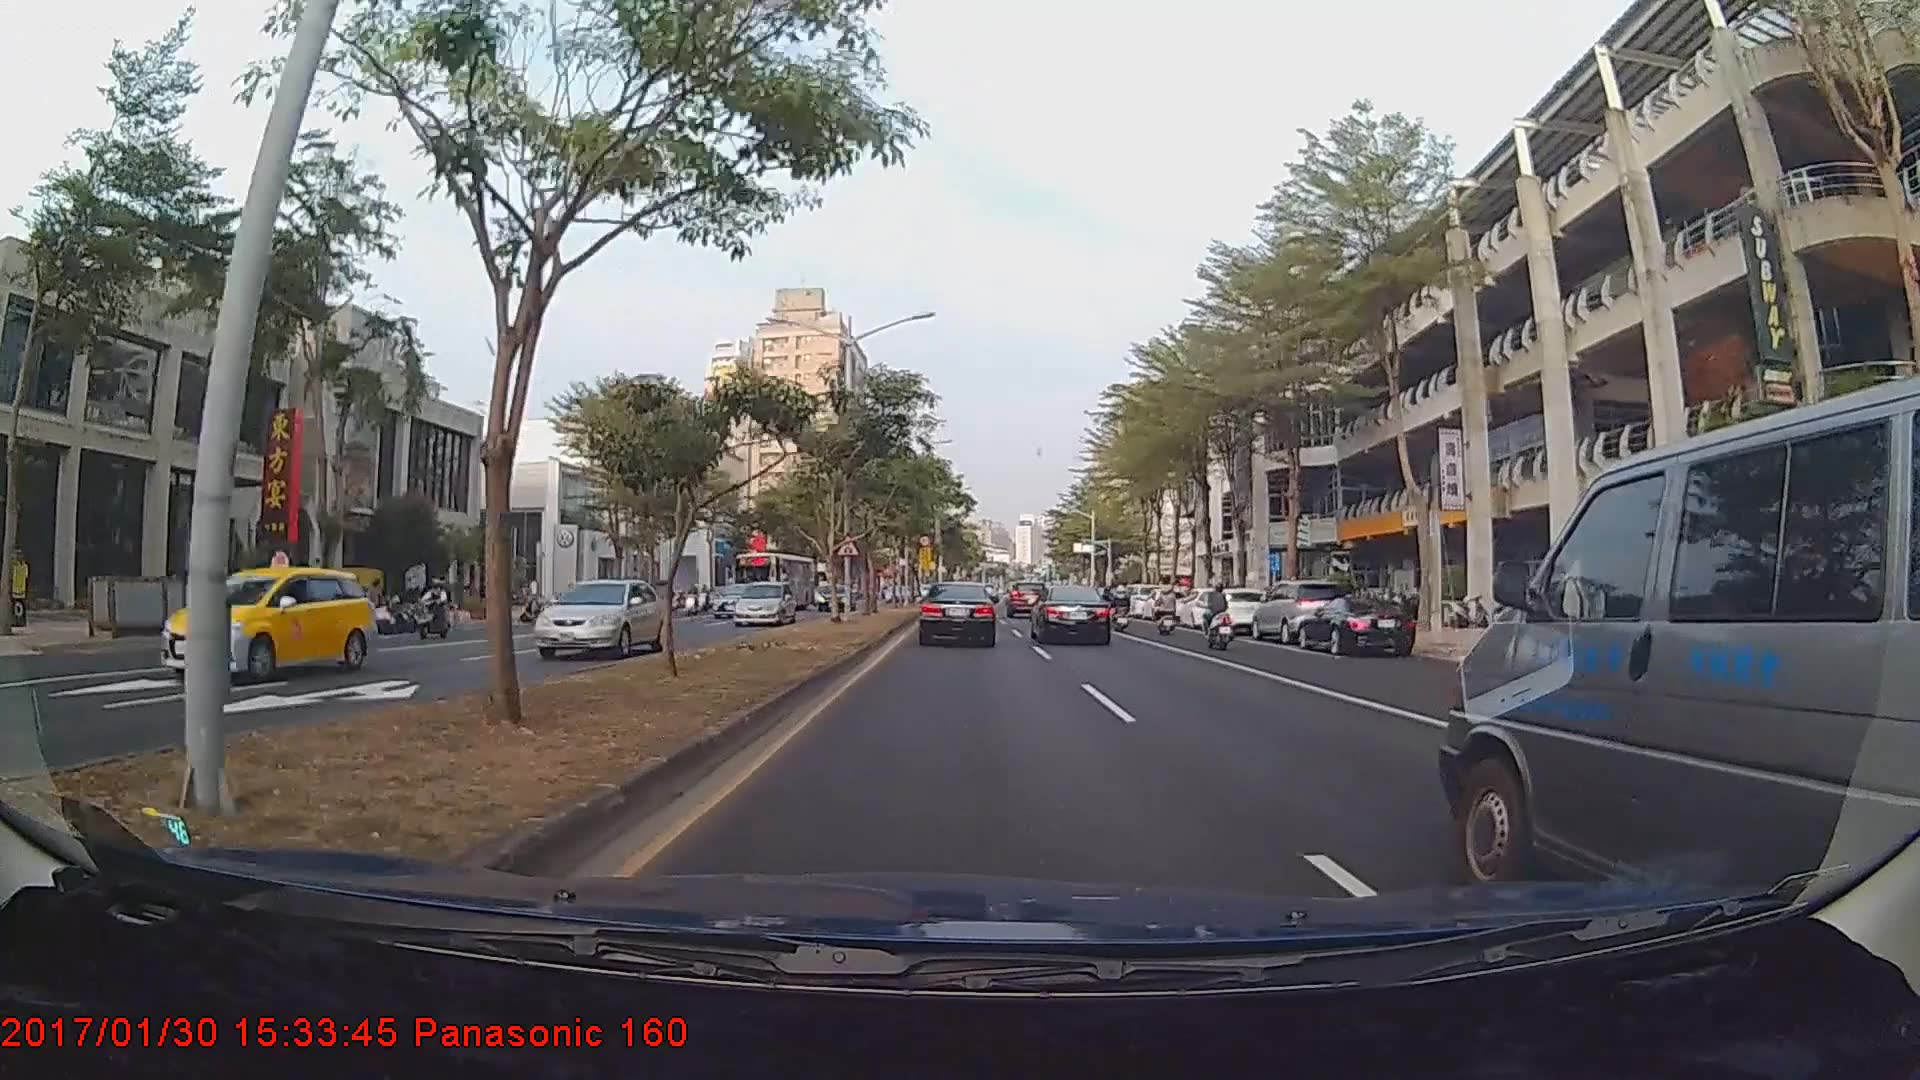rider: (414, 577, 458, 646), (1199, 584, 1239, 657), (1148, 583, 1181, 641), (1109, 585, 1132, 635)
vehicle: (1460, 405, 1912, 898), (155, 561, 375, 689), (536, 578, 669, 657), (1296, 598, 1416, 655), (1254, 582, 1355, 650), (732, 549, 817, 615), (916, 580, 998, 648), (1030, 583, 1114, 646), (1202, 587, 1268, 635), (728, 580, 797, 627), (1004, 581, 1051, 619), (707, 584, 757, 618), (813, 581, 858, 611)
